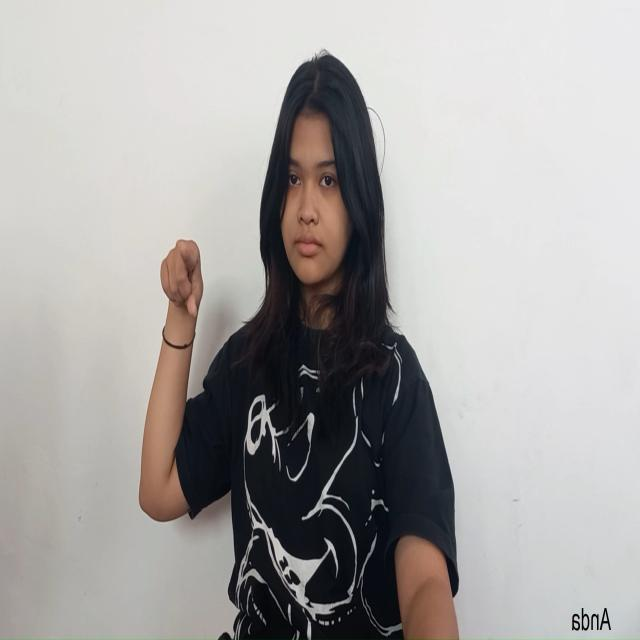Anda -BISINDO-: (159, 232, 206, 332)
